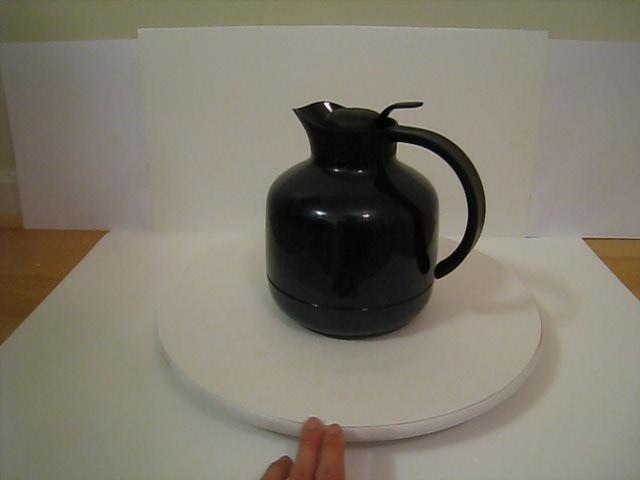pitcher: (262, 95, 490, 347)
